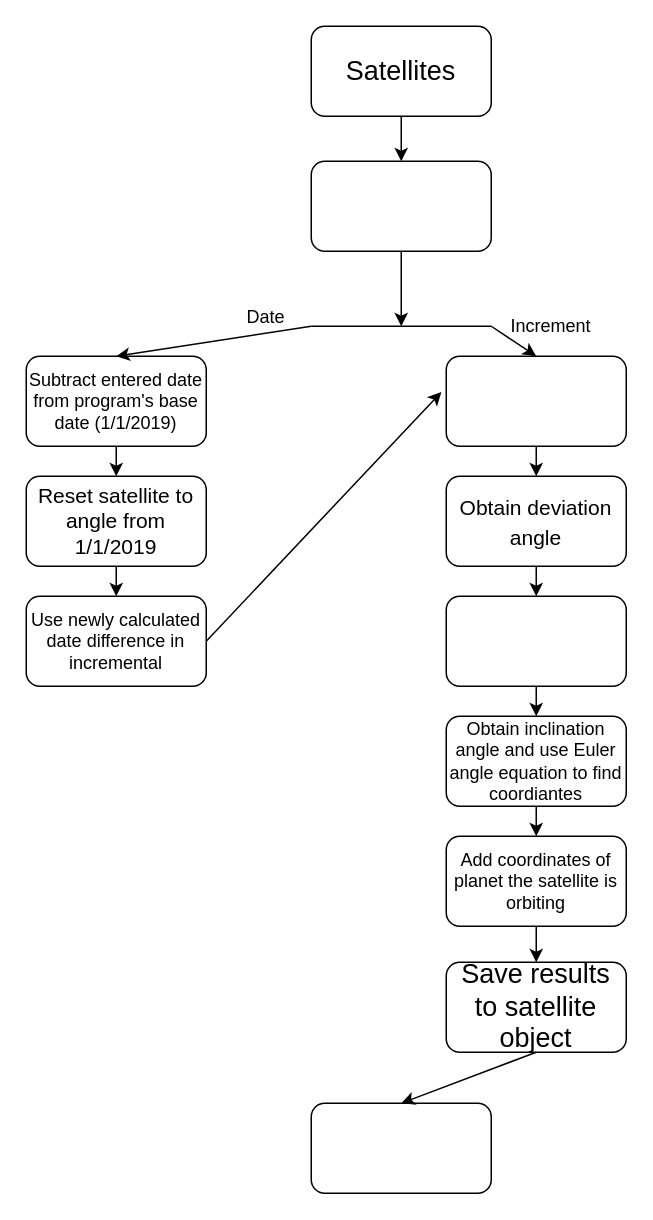
This 653x1220 diagram has some shape labels left out. Here are the shapes that lost their labels. From the top down, the box of each, then its label:
(310, 160, 491, 251): View by an increment or by a date?
(445, 355, 626, 446): Scale increment on satellite's orbital period
(445, 595, 626, 686): Kepler equation to calculate distance from the Sun using deviation angle
(310, 1102, 491, 1193): Simulate Satellite
